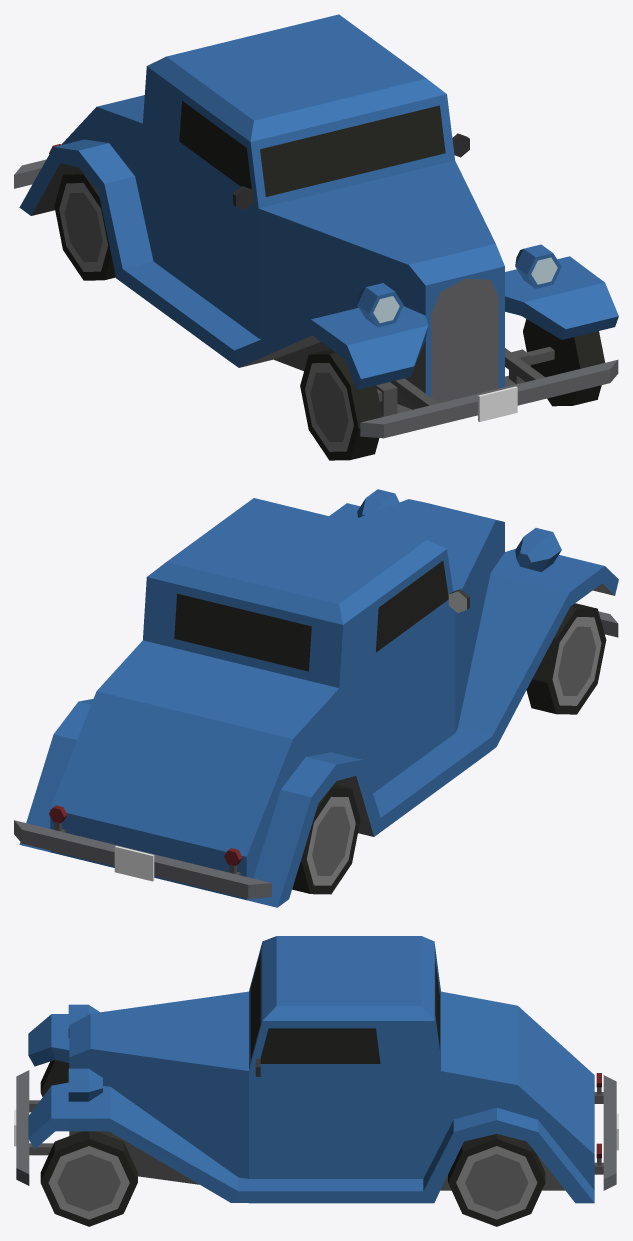
The model's file is Veh_Retro_Car_02_Blue.glb.
The picture shows the model from 3 angles, top to bottom: view 1: azimuth 30°, elevation 25°; view 2: azimuth 150°, elevation 25°; view 3: azimuth 270°, elevation 25°; orthographic projection. The views are drawn at different scales.
Visible parts, largest first — view 1: Retro_Car_02_Blue, Wheel_FR, Wheel_RR, Wheel_FL; view 2: Retro_Car_02_Blue, Wheel_FR, Wheel_RR; view 3: Retro_Car_02_Blue, Wheel_FL, Wheel_RL, Wheel_FR.
Part boxes in pixels (left/top/right/bottom): Retro_Car_02_Blue: left=14, top=14, right=618, bottom=438; Wheel_FR: left=300, top=349, right=382, bottom=460; Wheel_RR: left=54, top=170, right=115, bottom=280; Wheel_FL: left=523, top=319, right=604, bottom=406; Retro_Car_02_Blue: left=14, top=489, right=618, bottom=907; Wheel_FR: left=526, top=603, right=606, bottom=714; Wheel_RR: left=292, top=784, right=360, bottom=894; Retro_Car_02_Blue: left=14, top=936, right=618, bottom=1203; Wheel_FL: left=40, top=1131, right=137, bottom=1226; Wheel_RL: left=448, top=1134, right=545, bottom=1226; Wheel_FR: left=40, top=1060, right=69, bottom=1096.
Size of the model in its own units: 0.9825 by 0.8995 by 2.4.
Materials: 1 (1 with a texture image).
